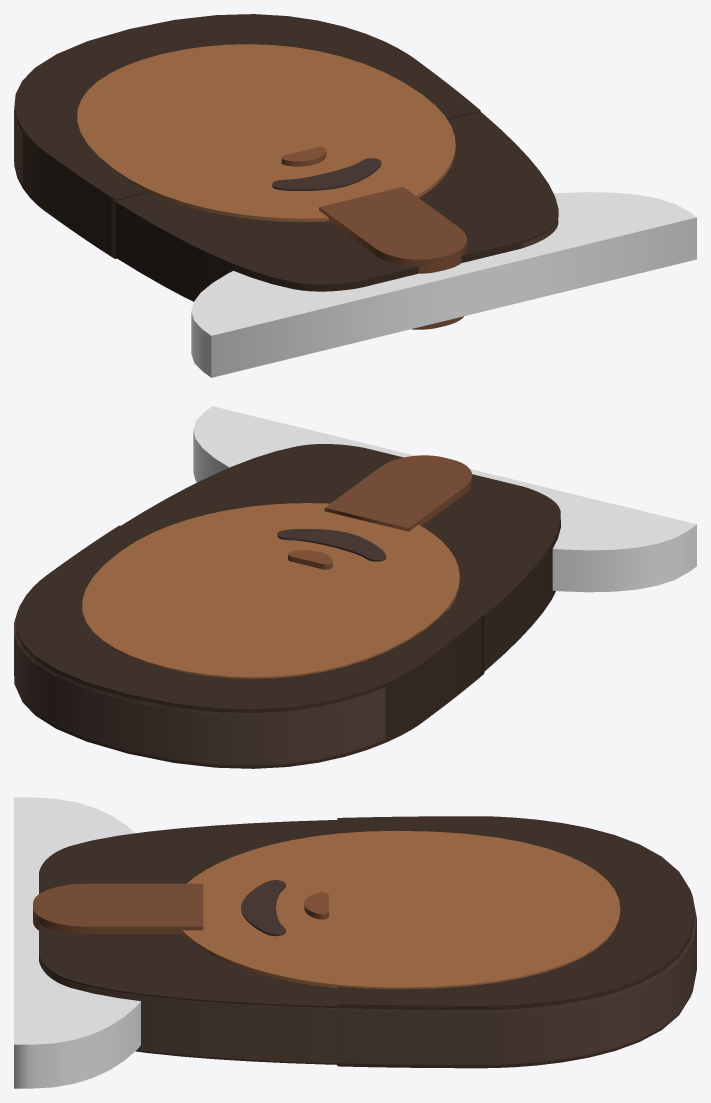
File: emoji_u1f469_1f3fe_200d_2695.glb
3 renders of one model, top to bottom at view 1: azimuth 30°, elevation 25°; view 2: azimuth 150°, elevation 25°; view 3: azimuth 270°, elevation 25°, orthographic. The views are drawn at different scales.
Visible parts, largest first — view 1: emoji_u1f469_1f3fe_200d_2695; view 2: emoji_u1f469_1f3fe_200d_2695; view 3: emoji_u1f469_1f3fe_200d_2695.
Boxes of the visible parts, x1=… form: emoji_u1f469_1f3fe_200d_2695: x1=14, y1=14, x2=696, y2=377; emoji_u1f469_1f3fe_200d_2695: x1=14, y1=406, x2=696, y2=768; emoji_u1f469_1f3fe_200d_2695: x1=14, y1=797, x2=696, y2=1088.
Bounding box in the file's own units: 0.029 × 0.0042 × 0.0339.
